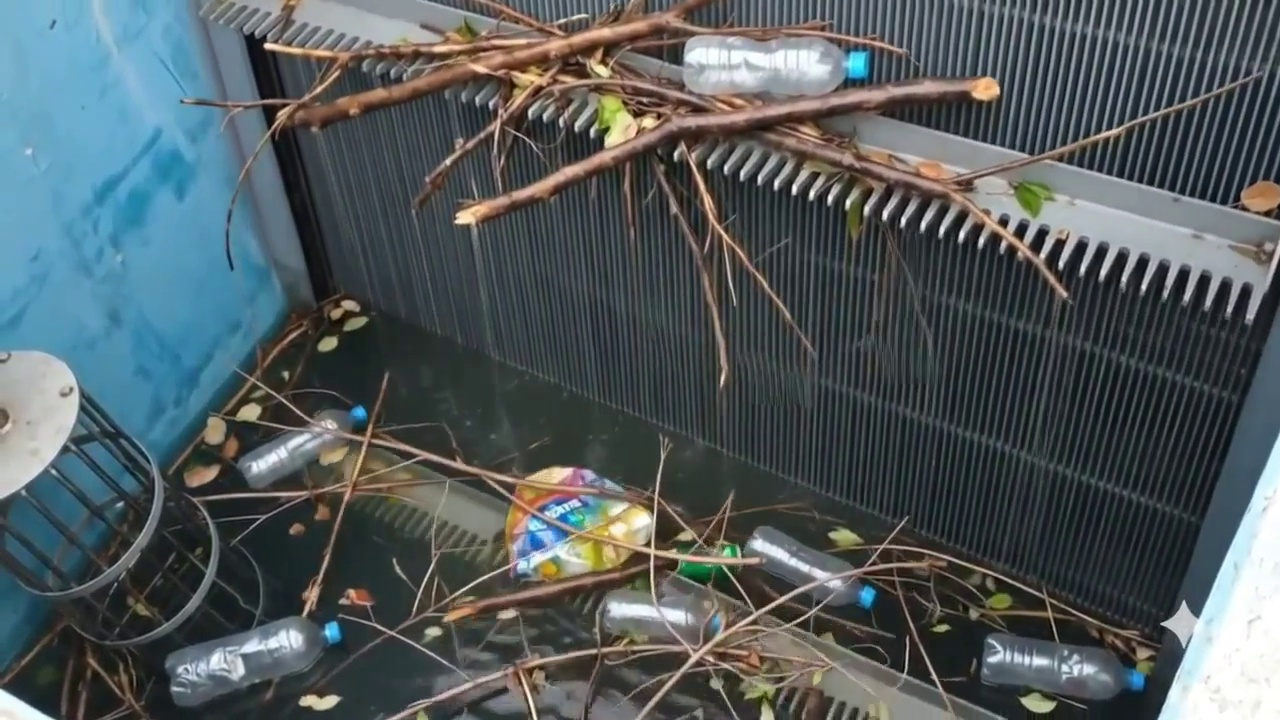debris: (454, 77, 1025, 250), (289, 0, 714, 129), (414, 61, 753, 204), (504, 466, 654, 588), (166, 617, 342, 703), (706, 527, 876, 608), (980, 633, 1145, 699), (237, 406, 368, 487), (602, 588, 726, 644), (676, 559, 750, 582)
